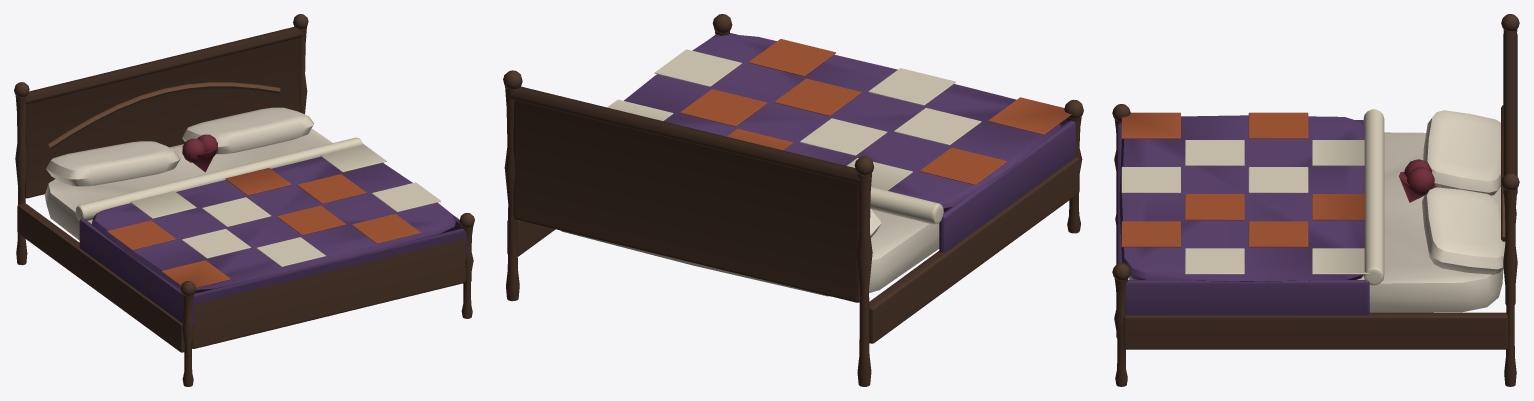
Rendered from bed_normal.glb.
3 views of the same model, side by side, from view 1: azimuth 30°, elevation 25°; view 2: azimuth 150°, elevation 25°; view 3: azimuth 270°, elevation 25° (orthographic). The views are drawn at different scales.
Visible parts, largest first — view 1: bed_normal; view 2: bed_normal; view 3: bed_normal.
Part boxes in pixels (x1,y1,x2,y2): bed_normal: (14, 14, 474, 386); bed_normal: (503, 14, 1083, 386); bed_normal: (1112, 14, 1519, 386).
Size of the model in its own units: 1.91 by 1.12 by 1.97.
